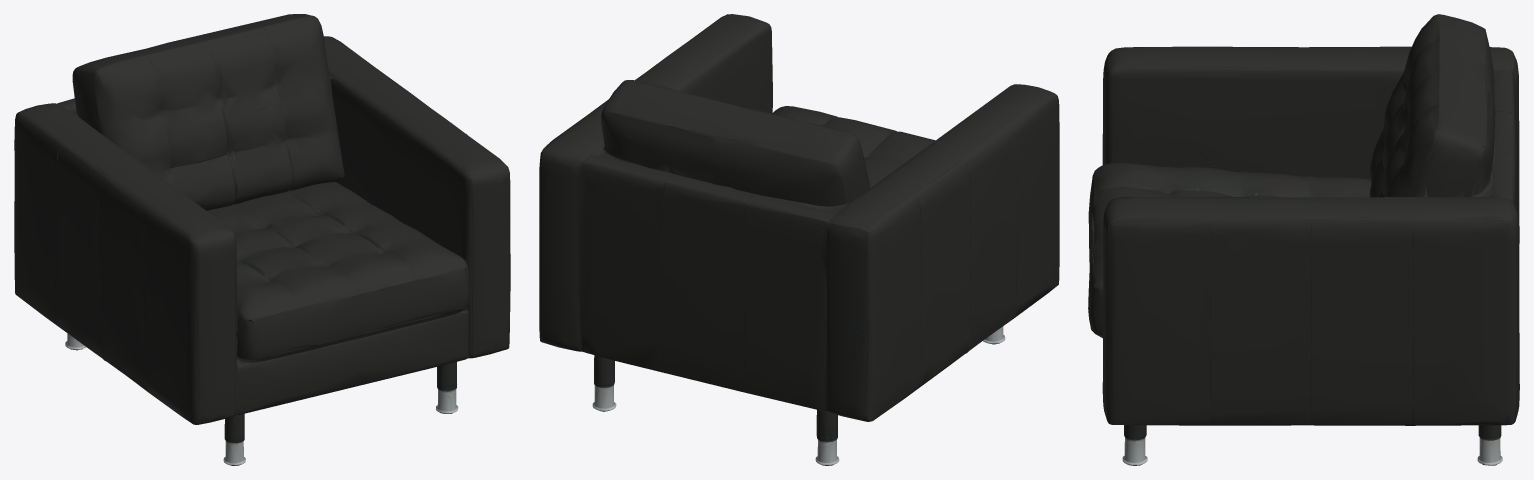
The model's file is 12 - LANDSKRONA - 扶手椅，GrannBomstad 黑色金屬 IKEA 線上購物.glb.
3 renders of one model, left to right at view 1: azimuth 30°, elevation 25°; view 2: azimuth 150°, elevation 25°; view 3: azimuth 270°, elevation 25°, orthographic. The views are drawn at different scales.
Visible parts, largest first — view 1: ProcessedMeshNode; view 2: ProcessedMeshNode; view 3: ProcessedMeshNode.
Boxes of the visible parts, x1,y1,x2,y2 form: ProcessedMeshNode: (14, 14, 510, 465); ProcessedMeshNode: (539, 14, 1059, 465); ProcessedMeshNode: (1088, 14, 1519, 465).
Size of the model in its own units: 0.9053 by 0.7858 by 0.9234.
2 materials, 2 textured.
